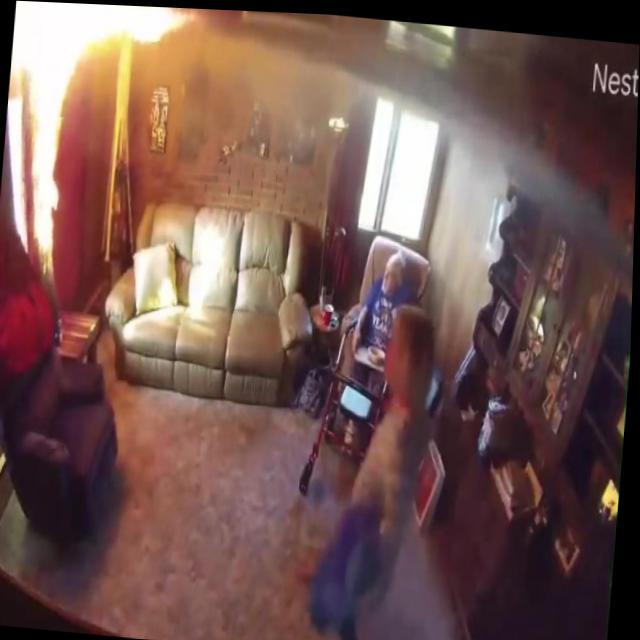fire: (0, 0, 79, 270), (13, 0, 199, 68)
